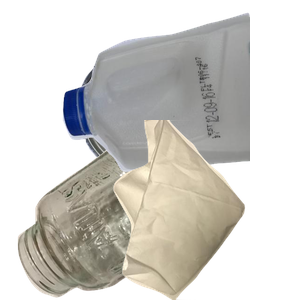glass: (15, 126, 229, 300)
metal: (73, 42, 277, 212)
plastic: (60, 10, 300, 175)
trash: (111, 120, 300, 300)
